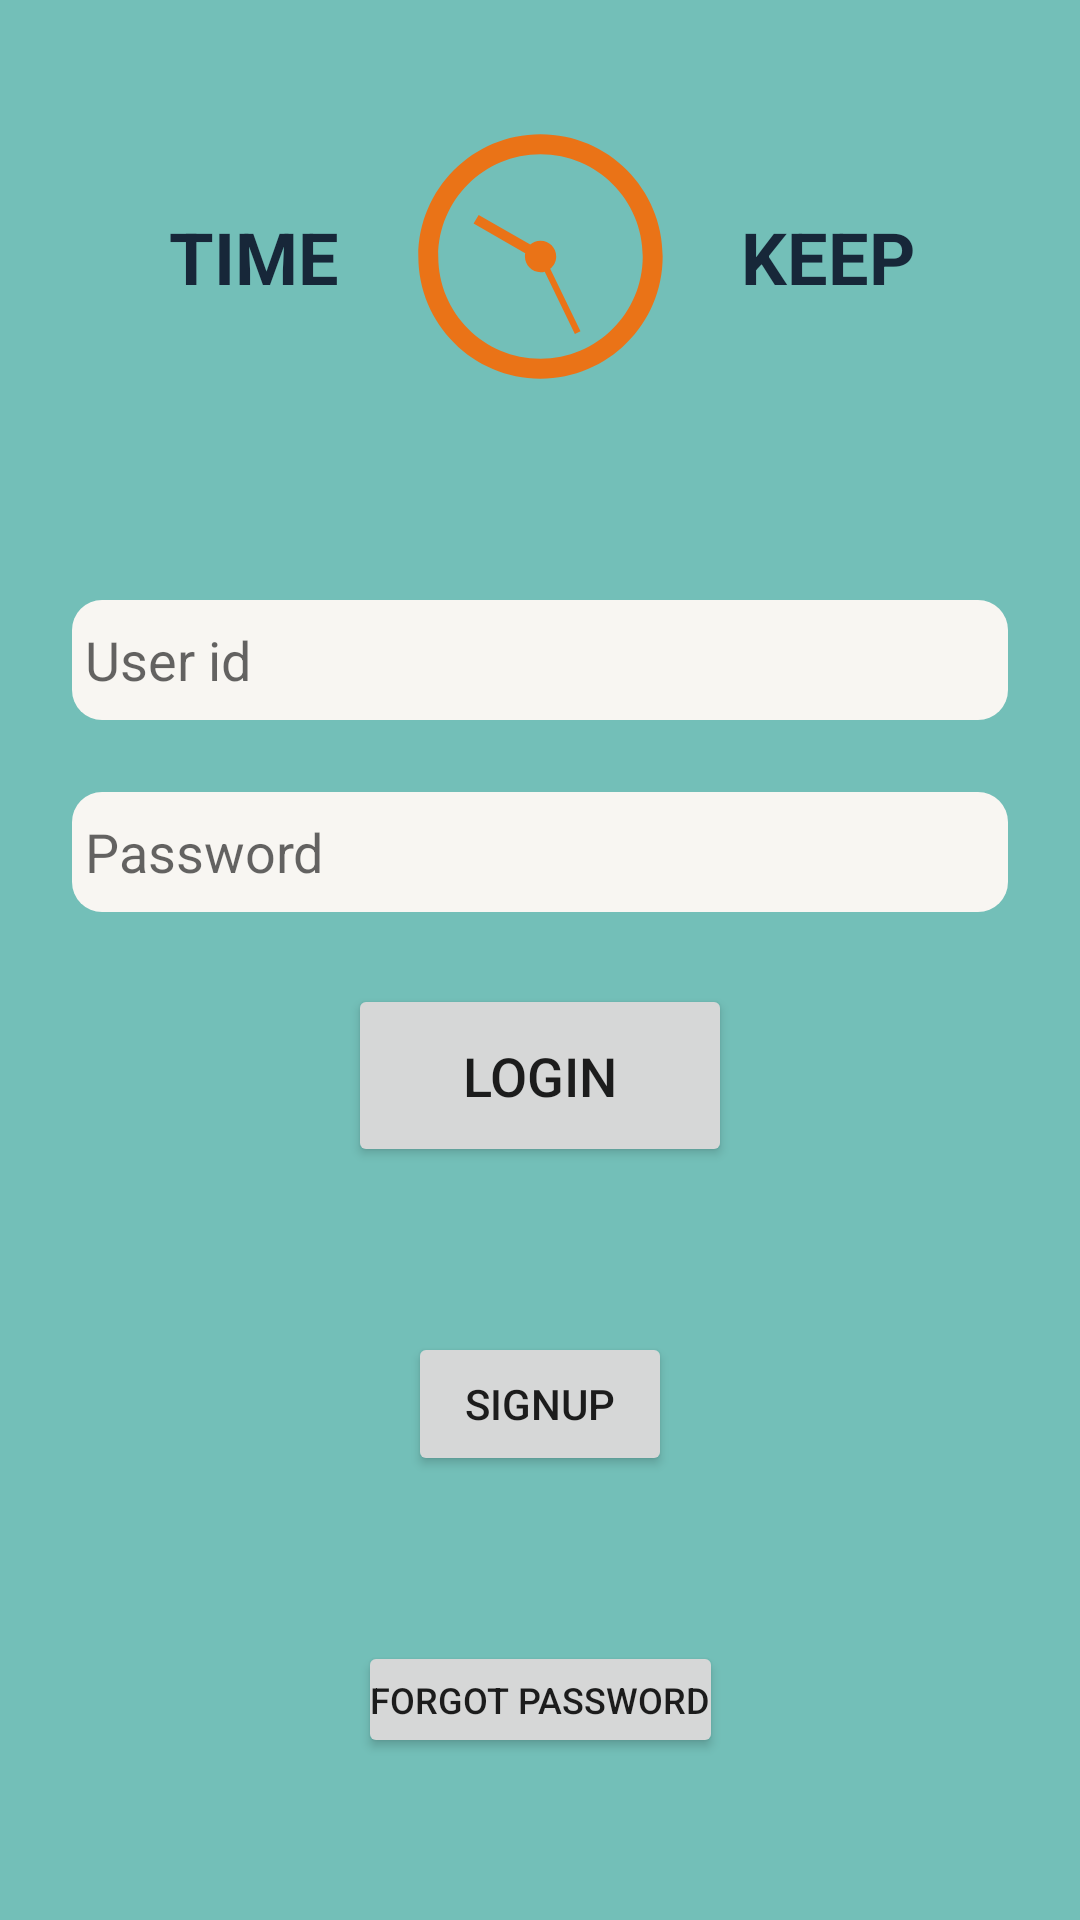

Locate icon controls on the screen. Image size 1080x1920, boxes as [x1, y1, x2, y2].
clock: [418, 134, 663, 379]
